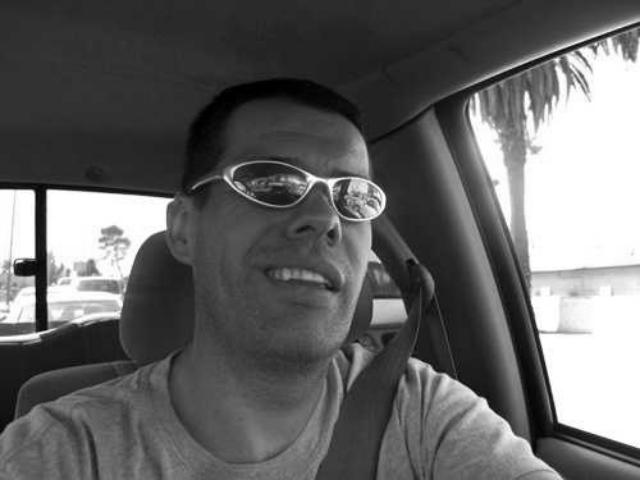Seatbelt: (314, 262, 434, 480)
